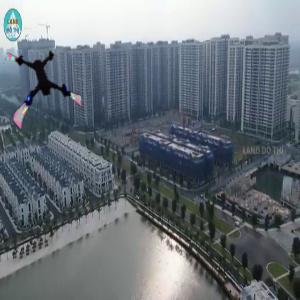drone: (5, 47, 88, 130)
